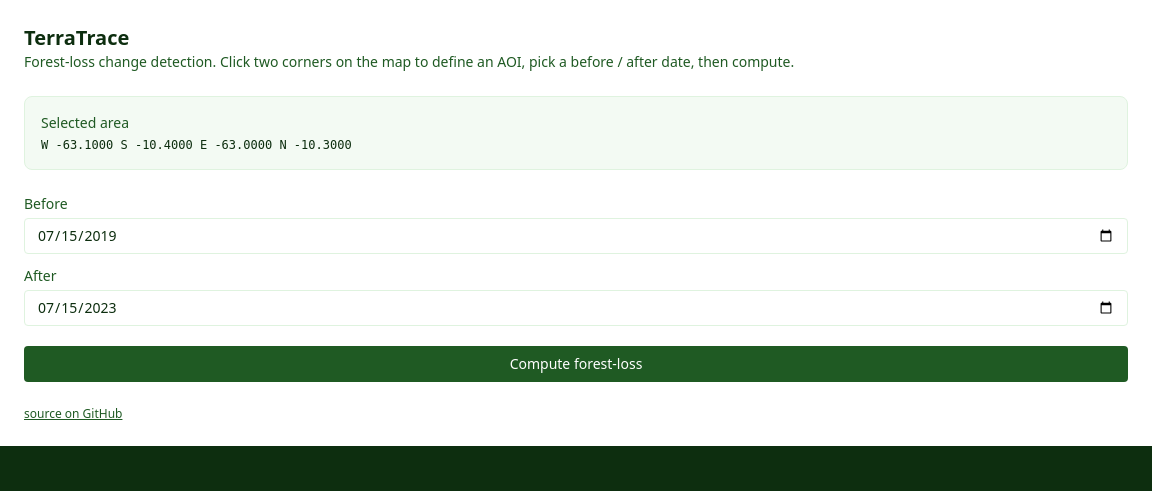
Test: PredictionPanel › surfaces error message when the API fails
Click the button with test id "compute-button". click: [576, 364]
box: [24, 346, 1128, 382]
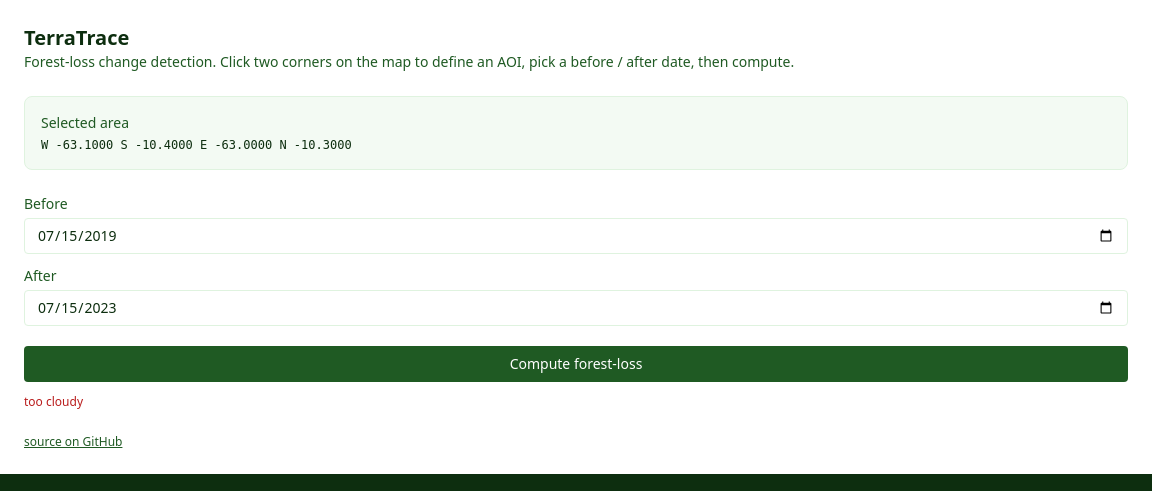
Result: the text with test id "error" reads "too cloudy" at [24, 393, 83, 410]
